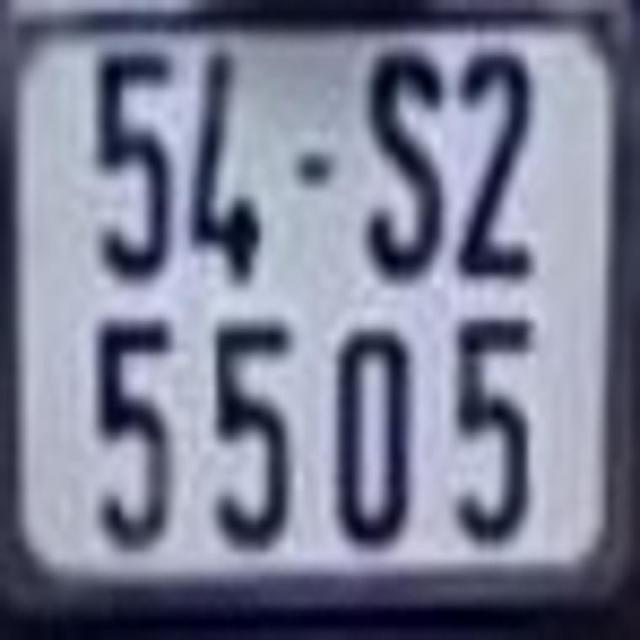0: (336, 323, 412, 548)
2: (459, 48, 535, 280)
4: (190, 50, 266, 284)
5: (453, 314, 536, 546), (94, 316, 174, 553), (212, 319, 293, 550), (94, 49, 173, 278)
S: (365, 49, 446, 278)
